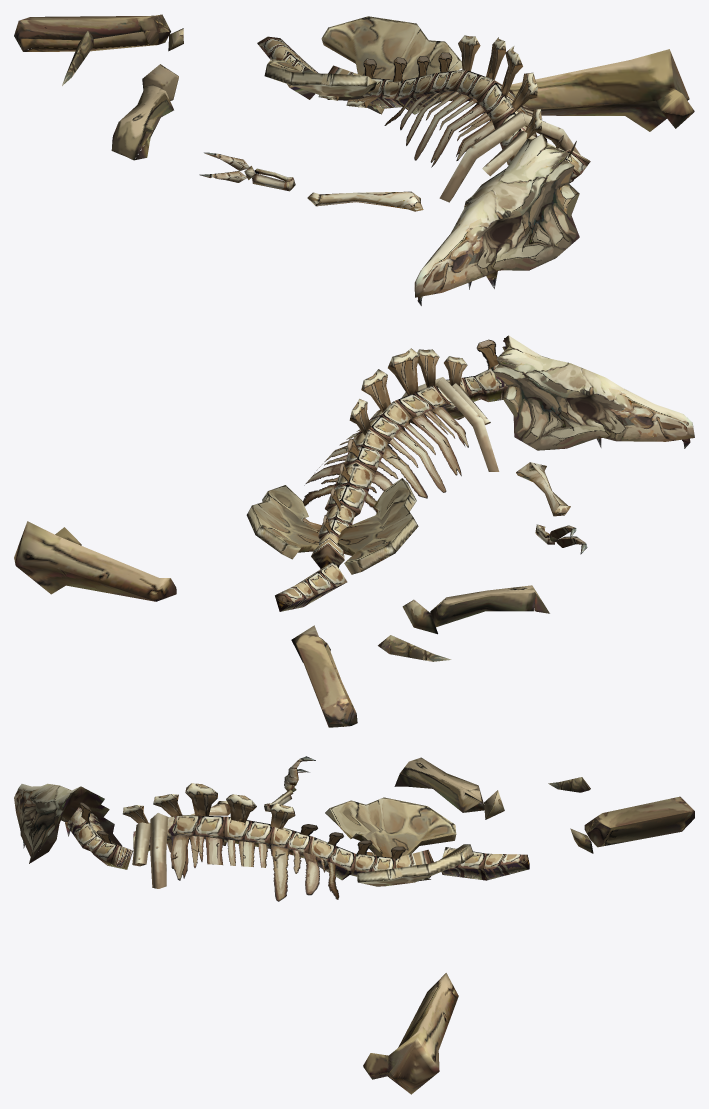
The model's file is 2_GBL_DaGuJia_01.FBX.
3 renders of one model, top to bottom at view 1: azimuth 30°, elevation 25°; view 2: azimuth 150°, elevation 25°; view 3: azimuth 270°, elevation 25°, orthographic. The views are drawn at different scales.
Parts seen in each view (by area): view 1: 2_GBL_DaGuJia_01_02, 2_GBL_DaGuJia_01_01, 2_GBL_DaGuJia_01_04, 2_GBL_DaGuJia_01_05, 2_GBL_DaGuJia_01_06, 2_GBL_DaGuJia_01_03; view 2: 2_GBL_DaGuJia_01_02, 2_GBL_DaGuJia_01_01, 2_GBL_DaGuJia_01_04, 2_GBL_DaGuJia_01_06, 2_GBL_DaGuJia_01_05, 2_GBL_DaGuJia_01_03; view 3: 2_GBL_DaGuJia_01_02, 2_GBL_DaGuJia_01_01, 2_GBL_DaGuJia_01_04, 2_GBL_DaGuJia_01_05, 2_GBL_DaGuJia_01_06, 2_GBL_DaGuJia_01_03.
Part boxes in pixels (x1,y1,x2,y2): 2_GBL_DaGuJia_01_02: [257, 16, 580, 202]; 2_GBL_DaGuJia_01_01: [414, 134, 590, 305]; 2_GBL_DaGuJia_01_04: [476, 49, 694, 131]; 2_GBL_DaGuJia_01_05: [14, 14, 183, 51]; 2_GBL_DaGuJia_01_06: [62, 31, 178, 160]; 2_GBL_DaGuJia_01_03: [199, 152, 423, 211]; 2_GBL_DaGuJia_01_02: [246, 348, 499, 611]; 2_GBL_DaGuJia_01_01: [446, 335, 694, 450]; 2_GBL_DaGuJia_01_04: [14, 521, 176, 601]; 2_GBL_DaGuJia_01_06: [378, 585, 549, 661]; 2_GBL_DaGuJia_01_05: [291, 625, 357, 727]; 2_GBL_DaGuJia_01_03: [516, 462, 587, 554]; 2_GBL_DaGuJia_01_02: [122, 783, 529, 901]; 2_GBL_DaGuJia_01_01: [14, 783, 132, 869]; 2_GBL_DaGuJia_01_04: [363, 973, 458, 1094]; 2_GBL_DaGuJia_01_05: [570, 796, 694, 853]; 2_GBL_DaGuJia_01_06: [394, 757, 590, 819]; 2_GBL_DaGuJia_01_03: [191, 756, 315, 815].
Size of the model in its own units: 735 by 287 by 876.
Materials: 1 (1 with a texture image).
